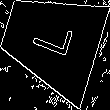L_W: (26, 18, 76, 64)
